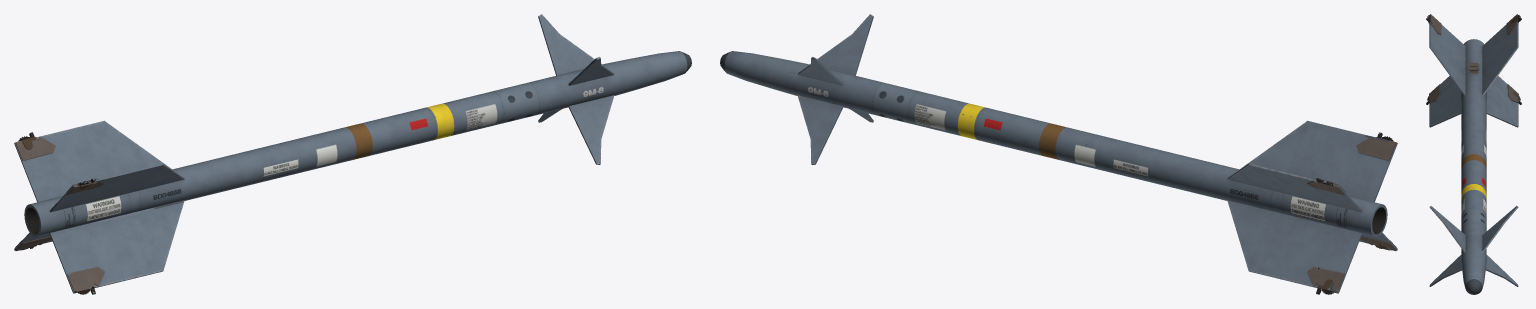
The model's file is aim9m.glb.
3 views of the same model, side by side, from view 1: azimuth 30°, elevation 25°; view 2: azimuth 150°, elevation 25°; view 3: azimuth 270°, elevation 25° (orthographic). The views are drawn at different scales.
Visible parts, largest first — view 1: body, wing_lower_right, wing_upper_left, wing_upper_right, canard_lower_right, canard_upper_left, rolleron_flap_lower_right, rolleron_flap_upper_left, canard_upper_right; view 2: body, wing_lower_left, wing_upper_right, wing_upper_left, canard_lower_left, canard_upper_right, rolleron_flap_lower_left, rolleron_flap_upper_right, canard_upper_left; view 3: body, wing_upper_right, wing_upper_left, wing_lower_right, wing_lower_left, canard_upper_right, canard_upper_left, canard_lower_right, canard_lower_left, rolleron_flap_upper_right, rolleron_flap_upper_left, rolleron_flap_lower_left (+2 smaller).
Part boxes in pixels (left/top/right/bottom): body: left=24, top=51, right=691, bottom=236; wing_lower_right: left=49, top=200, right=184, bottom=293; wing_upper_left: left=14, top=120, right=171, bottom=202; wing_upper_right: left=49, top=163, right=184, bottom=212; canard_lower_right: left=568, top=95, right=614, bottom=164; canard_upper_left: left=538, top=14, right=601, bottom=75; rolleron_flap_lower_right: left=67, top=267, right=104, bottom=294; rolleron_flap_upper_left: left=15, top=132, right=55, bottom=160; canard_upper_right: left=568, top=57, right=614, bottom=85; body: left=720, top=51, right=1387, bottom=236; wing_lower_left: left=1227, top=200, right=1362, bottom=293; wing_upper_right: left=1240, top=120, right=1397, bottom=202; wing_upper_left: left=1227, top=163, right=1362, bottom=212; canard_lower_left: left=797, top=95, right=843, bottom=164; canard_upper_right: left=810, top=14, right=873, bottom=75; rolleron_flap_lower_left: left=1307, top=267, right=1344, bottom=294; rolleron_flap_upper_right: left=1356, top=132, right=1396, bottom=160; canard_upper_left: left=797, top=57, right=843, bottom=85; body: left=1461, top=39, right=1486, bottom=294; wing_upper_right: left=1429, top=22, right=1465, bottom=95; wing_upper_left: left=1482, top=22, right=1518, bottom=95; wing_lower_right: left=1429, top=76, right=1461, bottom=127; wing_lower_left: left=1486, top=76, right=1518, bottom=127; canard_upper_right: left=1429, top=206, right=1465, bottom=252; canard_upper_left: left=1482, top=206, right=1518, bottom=252; canard_lower_right: left=1429, top=255, right=1462, bottom=286; canard_lower_left: left=1485, top=255, right=1518, bottom=286; rolleron_flap_upper_right: left=1426, top=14, right=1441, bottom=34; rolleron_flap_upper_left: left=1506, top=14, right=1521, bottom=34; rolleron_flap_lower_left: left=1507, top=84, right=1521, bottom=104.
Size of the model in its own units: 2.87 by 0.4844 by 0.4844.
8 materials, 7 textured.
